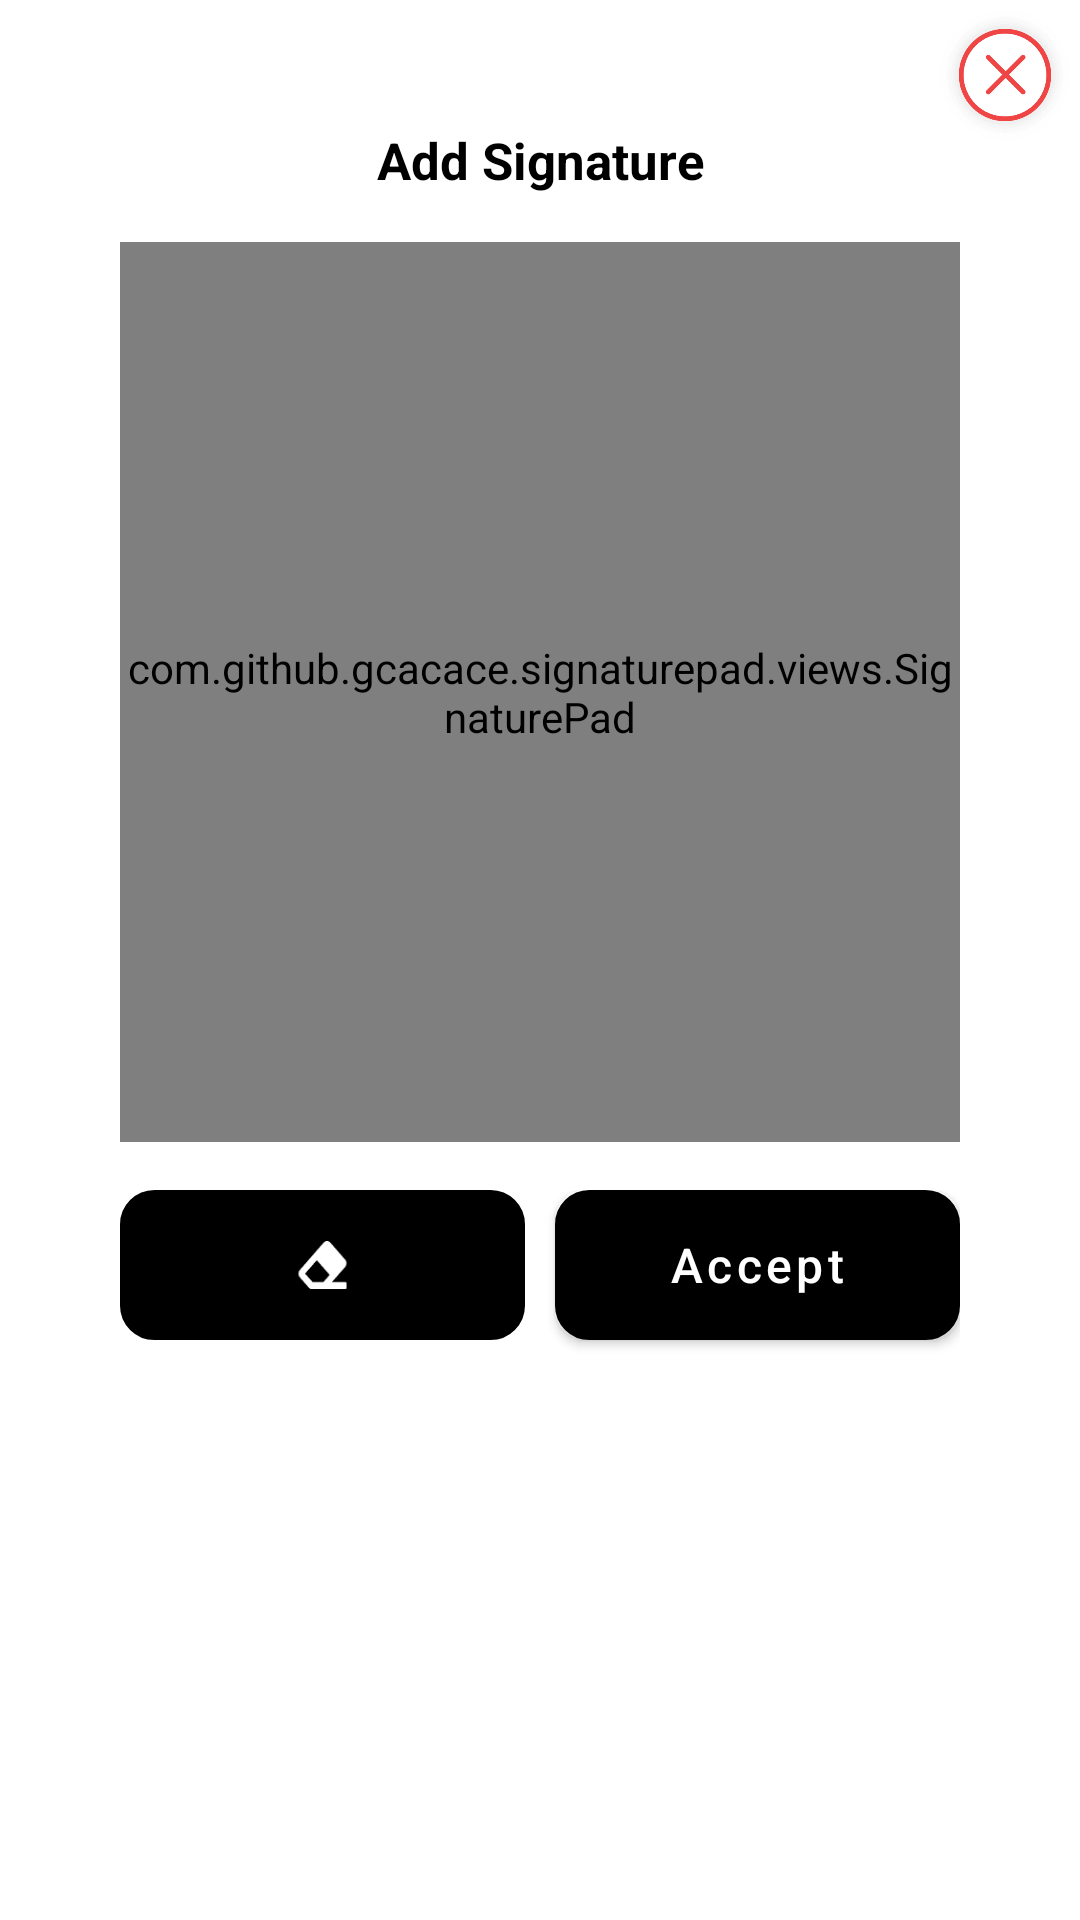

Named icons in this screenshot (1080px x 1920px) and their bounding boxes, (x1, y1, x2, y2):
close dialog: (959, 29, 1051, 121)
